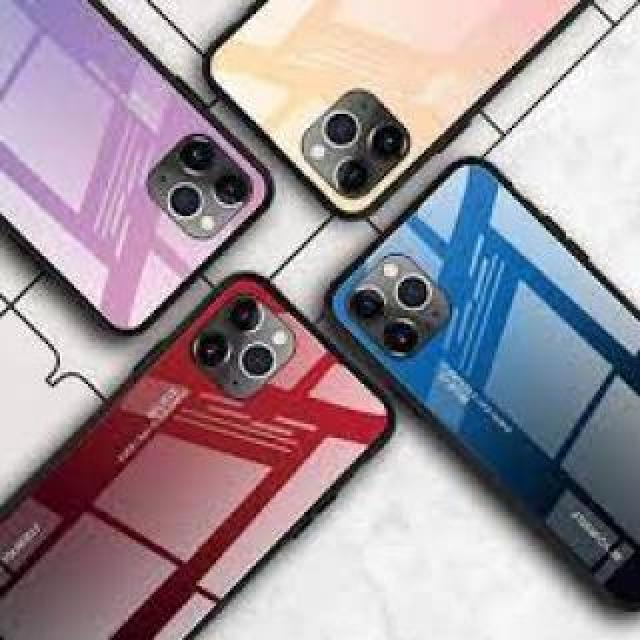smart phone: (348, 198, 598, 622), (20, 295, 327, 640), (228, 2, 640, 186)
